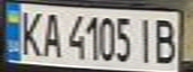0: (97, 14, 118, 63)
1: (81, 12, 100, 61)
4: (63, 11, 84, 61)
5: (115, 14, 136, 63)
A: (39, 9, 63, 58)
B: (151, 15, 181, 66)
I: (133, 15, 157, 64)
K: (15, 7, 45, 57)
